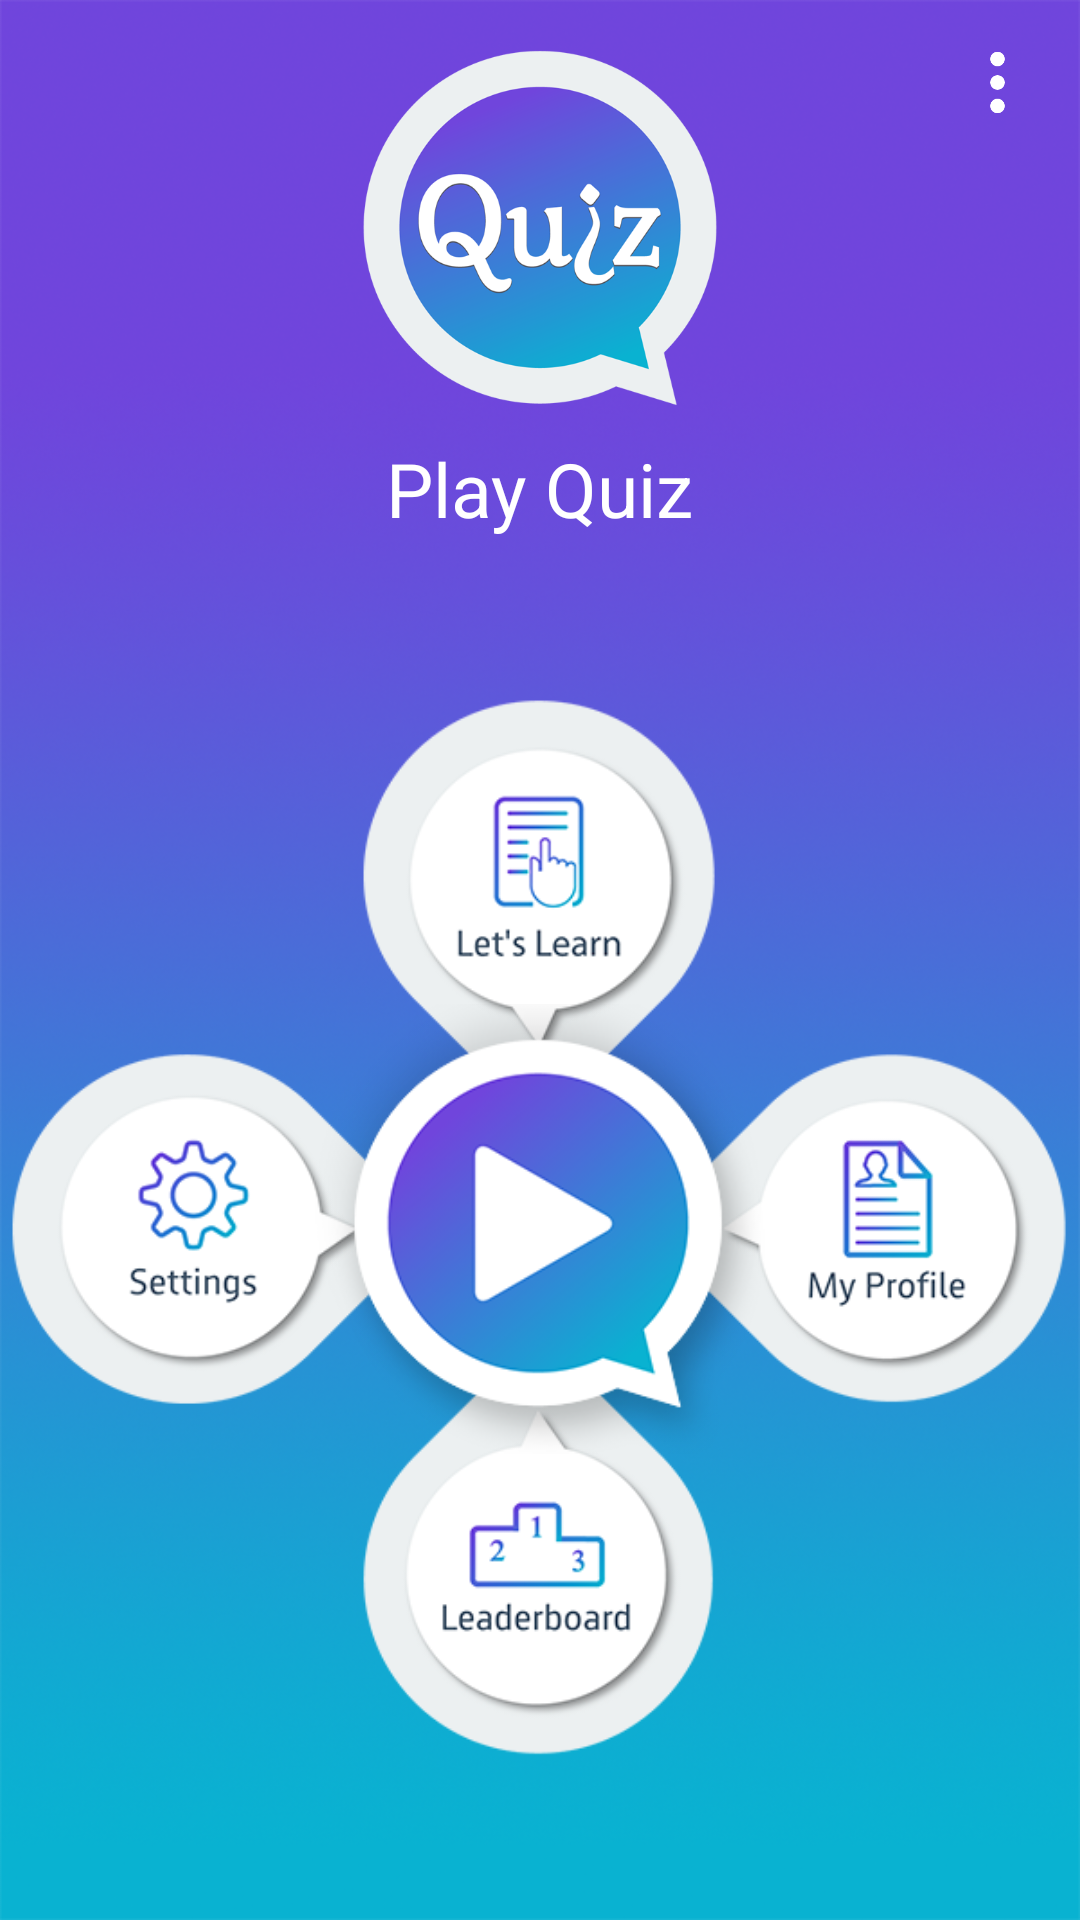

Screen size 1080px×1920px. Icon name, then its box in pixels as (x1, y1, x2, y2):
more: (990, 52, 1005, 113)
